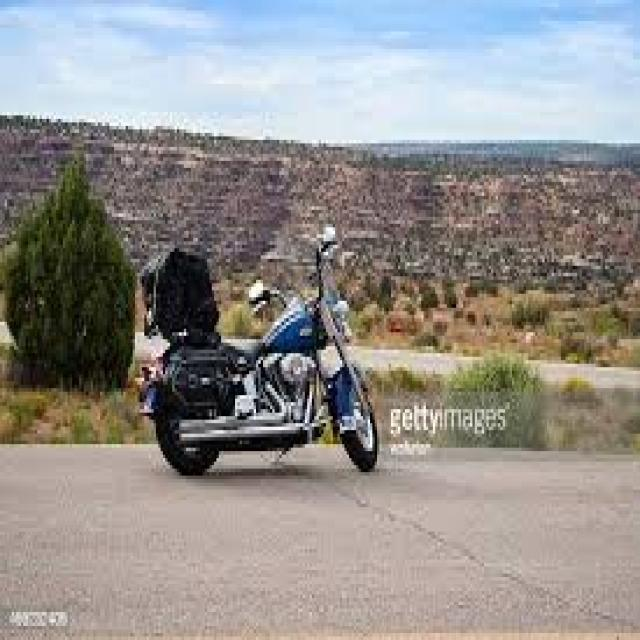MOTORCYCLE: (145, 227, 381, 477)
